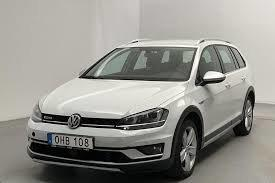license-plates: (52, 135, 93, 148)
